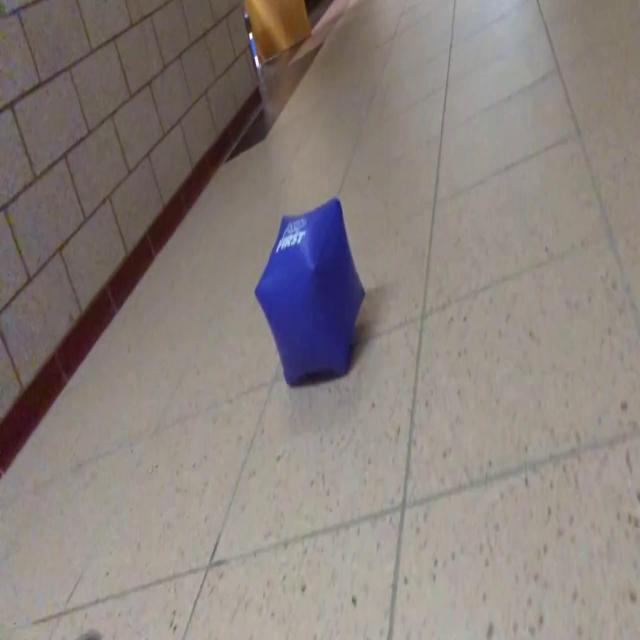frc_cube: (254, 196, 365, 386)
